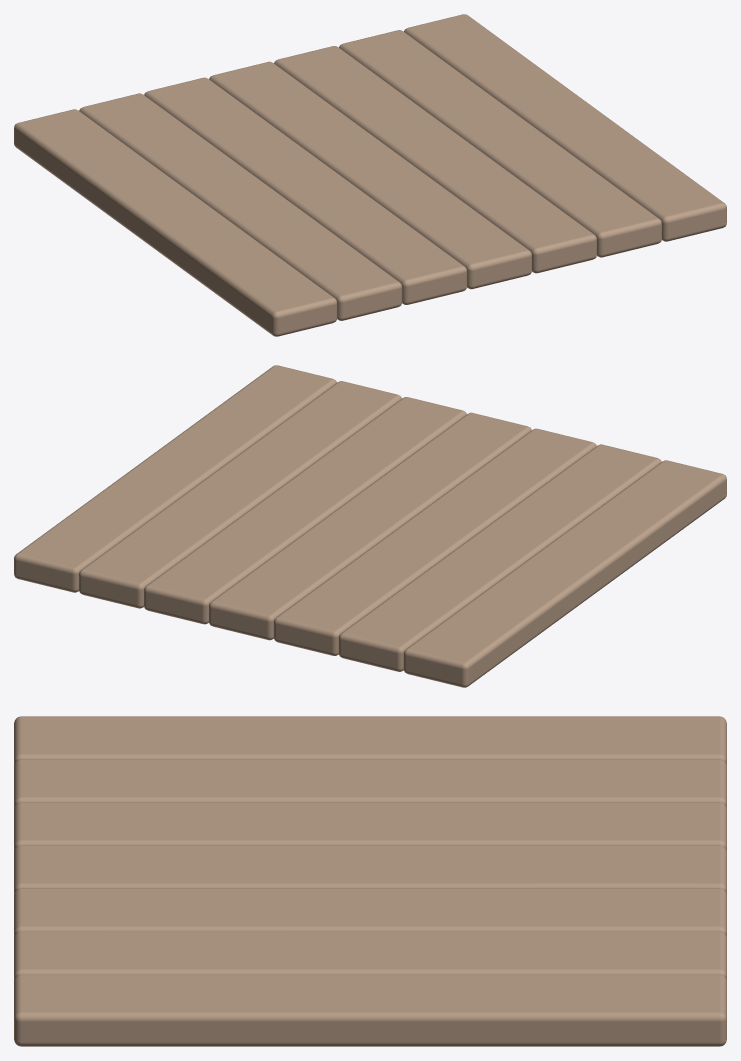
File: bottom12.fbx
3 views of the same model, one above another, from view 1: azimuth 30°, elevation 25°; view 2: azimuth 150°, elevation 25°; view 3: azimuth 270°, elevation 25° (orthographic). The views are drawn at different scales.
Visible parts, largest first — view 1: Cube.001; view 2: Cube.001; view 3: Cube.001.
Part boxes in pixels (x1,y1,x2,y2): Cube.001: (14, 14, 726, 336); Cube.001: (14, 365, 726, 687); Cube.001: (14, 716, 726, 1046).
Bounding box in the file's own units: 380 × 20 × 380.
